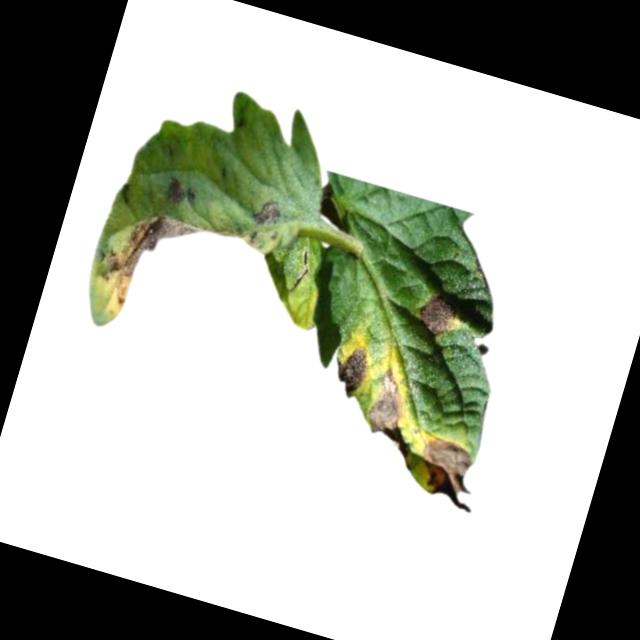Early_blight: (86, 198, 203, 331), (407, 435, 486, 516), (359, 366, 426, 459), (330, 341, 373, 402), (416, 293, 458, 337), (161, 175, 198, 209), (254, 199, 281, 229)
